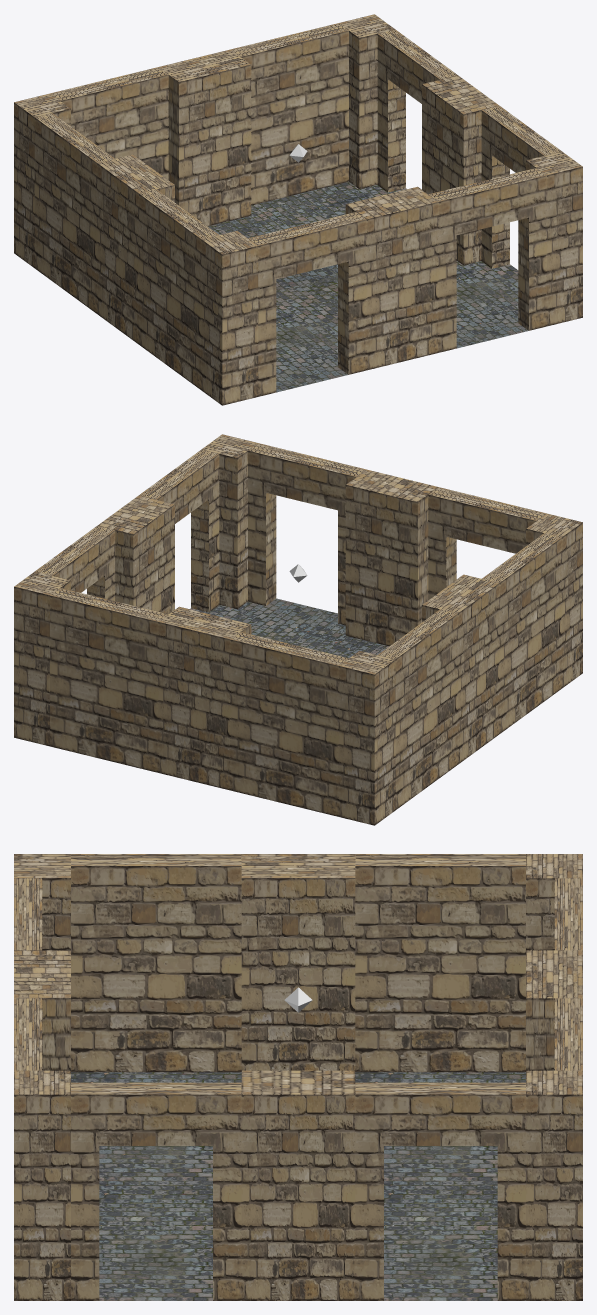
File: 1_2block4doorAdj.fbx
3 views of the same model, one above another, from view 1: azimuth 30°, elevation 25°; view 2: azimuth 150°, elevation 25°; view 3: azimuth 270°, elevation 25° (orthographic). The views are drawn at different scales.
Parts seen in each view (by area): view 1: Cube_7, Plane; view 2: Cube_7, Plane; view 3: Cube_7, Plane.
Boxes of the visible parts, x1,y1,x2,y2 form: Cube_7: (14,14,582,405); Plane: (208,181,528,392); Cube_7: (14,434,582,825); Plane: (190,598,388,658); Cube_7: (14,854,582,1300); Plane: (71,1072,525,1300).
Bounding box in the file's own units: 20 × 8 × 20.
Materials: 3 (3 with a texture image).
